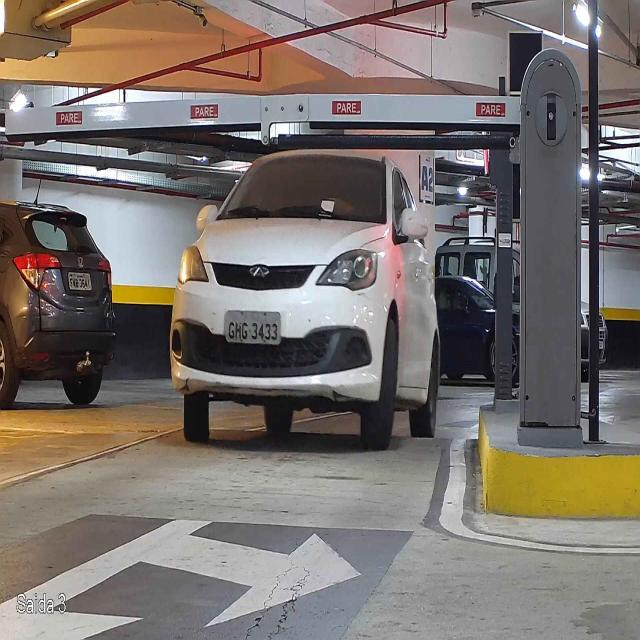old_plate: (223, 308, 283, 346)
